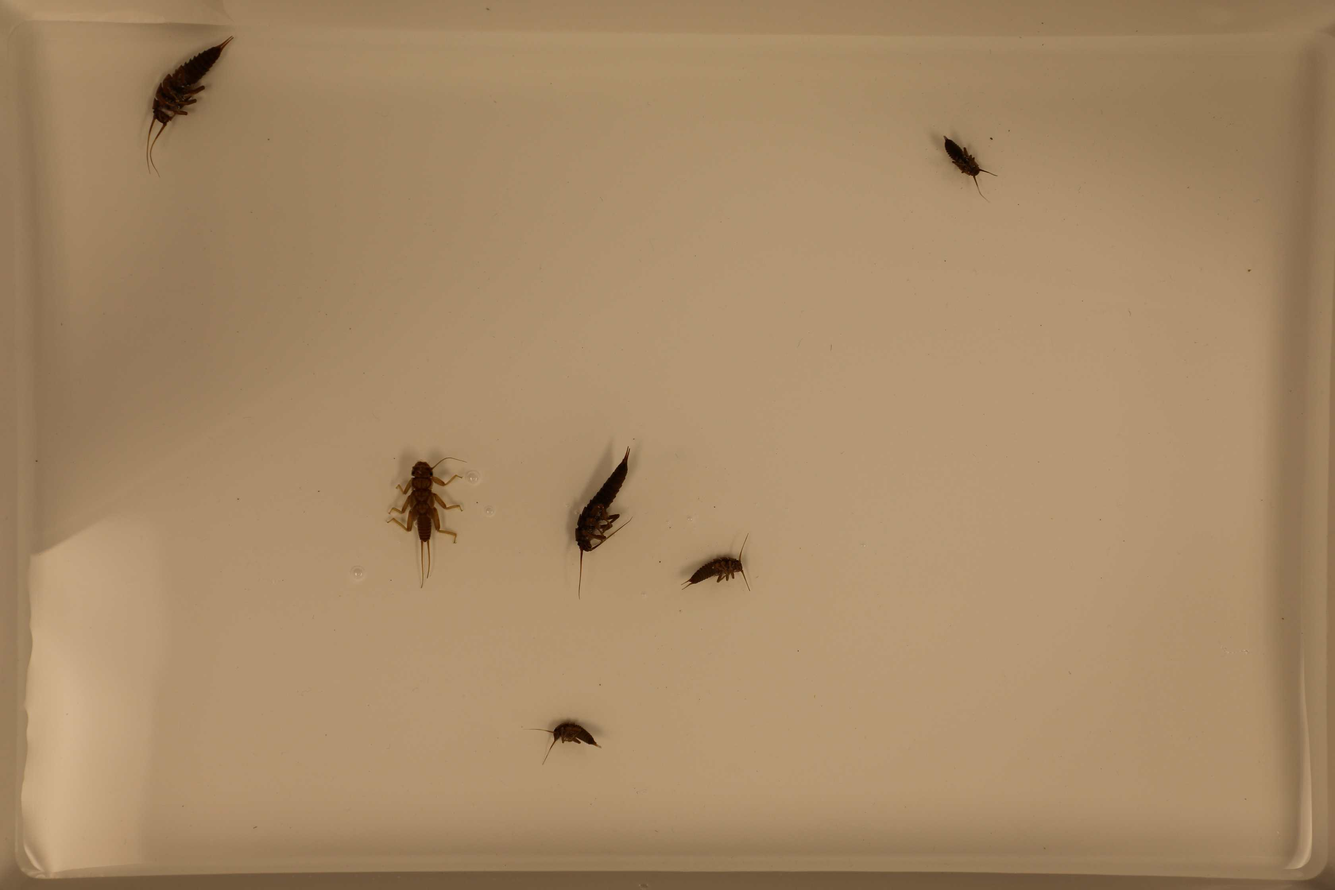Stonefly: (142, 35, 236, 175), (388, 456, 469, 594), (566, 446, 634, 601), (685, 525, 760, 606), (928, 127, 1002, 208), (533, 715, 599, 776)
